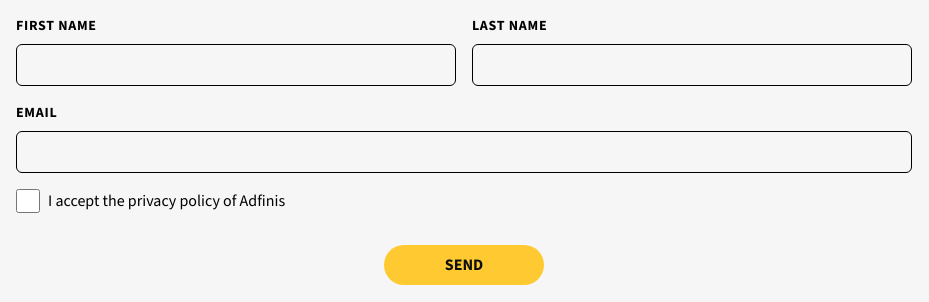
Test: hides the form and shows the confirmation after a successful submit
expect the text "Thank you! Your response has been submitted." is not shown: met
Click the button "Send" at (464,265), box [384,245,544,285]
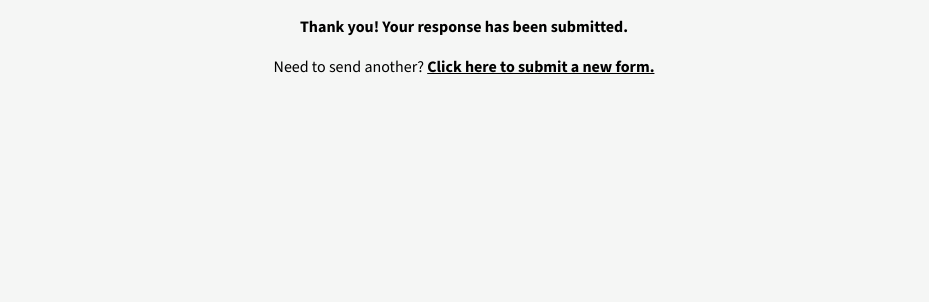
expect the heading "Thank you! Your response has been submitted." is shown: met, box [300,16,628,37]
